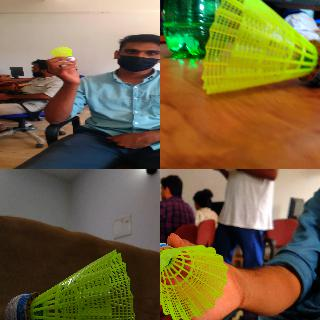shuttlecock: (200, 0, 319, 95), (4, 249, 135, 319), (160, 242, 226, 319), (50, 47, 74, 61)
